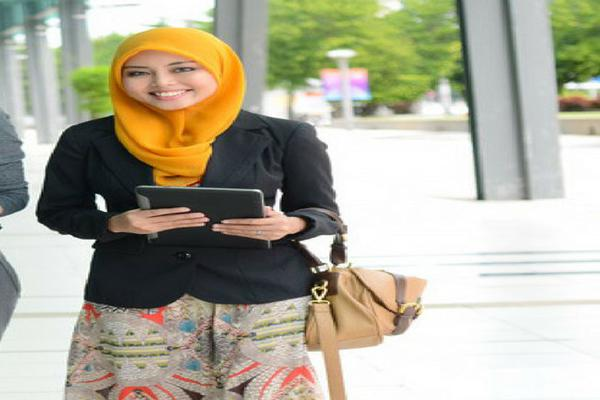Malay: (118, 59, 214, 108)
